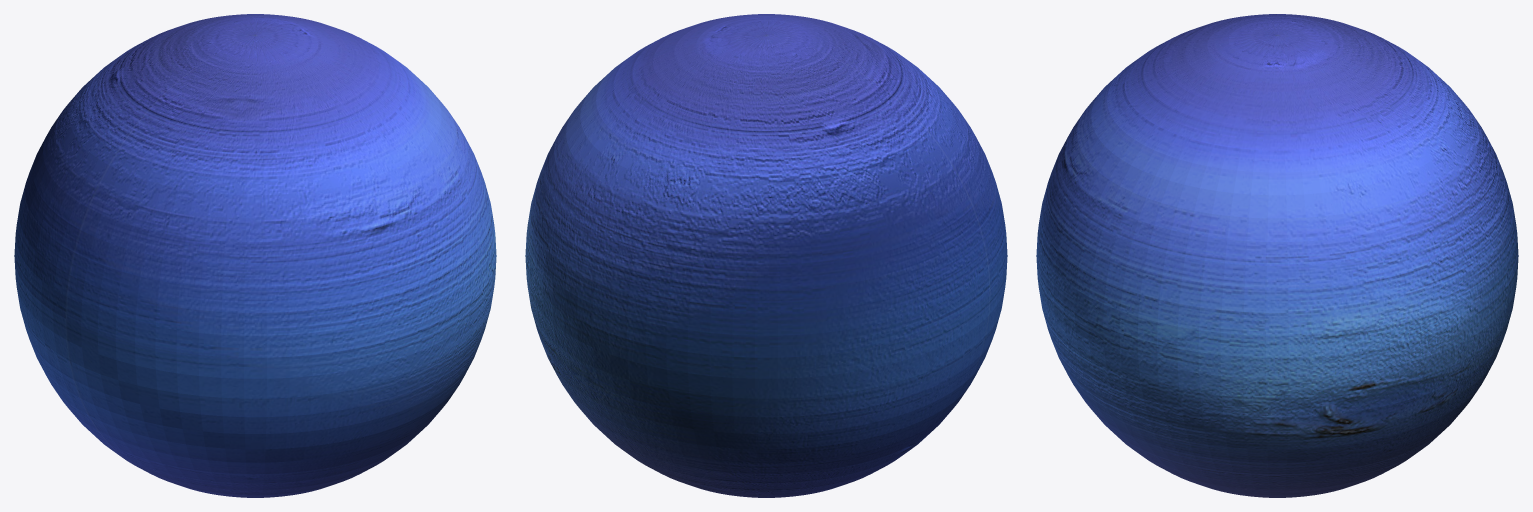
Rendered from neptuno.obj.
The picture shows the model from 3 angles, left to right: view 1: azimuth 30°, elevation 25°; view 2: azimuth 150°, elevation 25°; view 3: azimuth 270°, elevation 25°; orthographic projection.
Parts seen in each view (by area): view 1: Sphere; view 2: Sphere; view 3: Sphere.
Boxes of the visible parts, x1=… form: Sphere: x1=14, y1=14, x2=496, y2=497; Sphere: x1=525, y1=14, x2=1007, y2=497; Sphere: x1=1036, y1=14, x2=1518, y2=497.
Size of the model in its own units: 1.97 by 2 by 1.98.
1 material, 1 textured.
